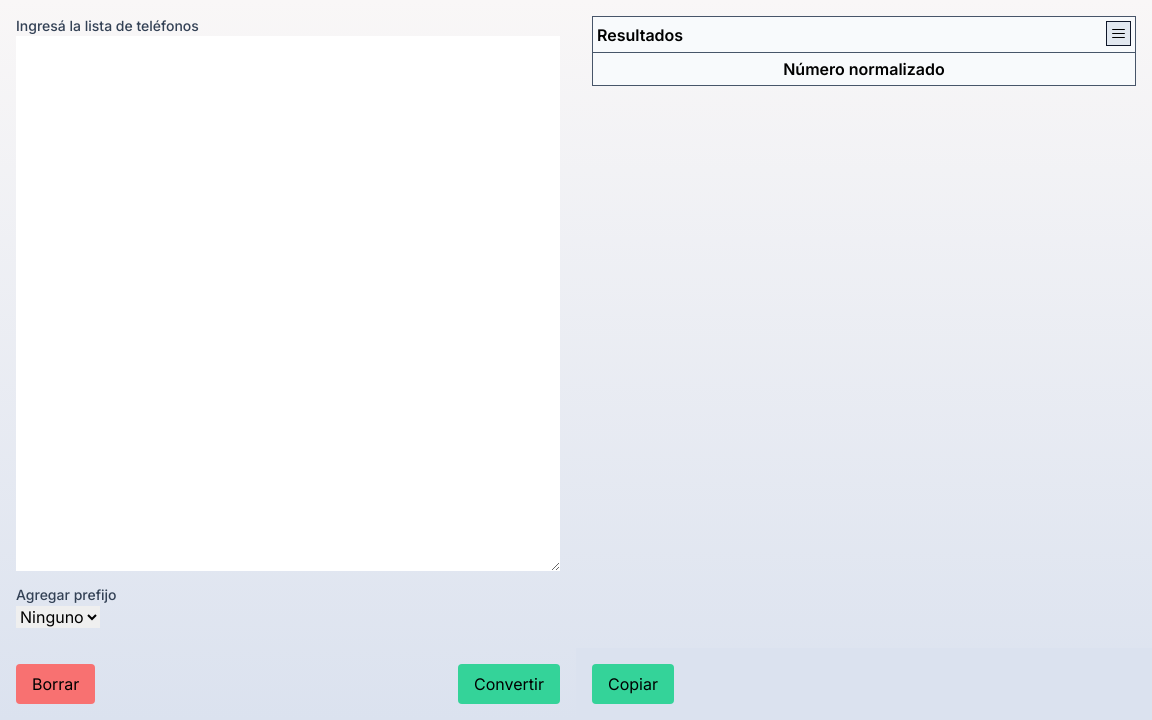
Test case: Normalizes a list of numbers with common mistakes
Type "1566190051   1166190052   166190053   341151234567   541166190054   5491166190055   5401166190056   +5491166190057   mi celu es 1566190058   1166190059   hola   hola mi celu es 1234   hace 2 días que " into the text box labelled "Ingresá la lista de teléfonos" at [288, 304], box [16,36,560,571]
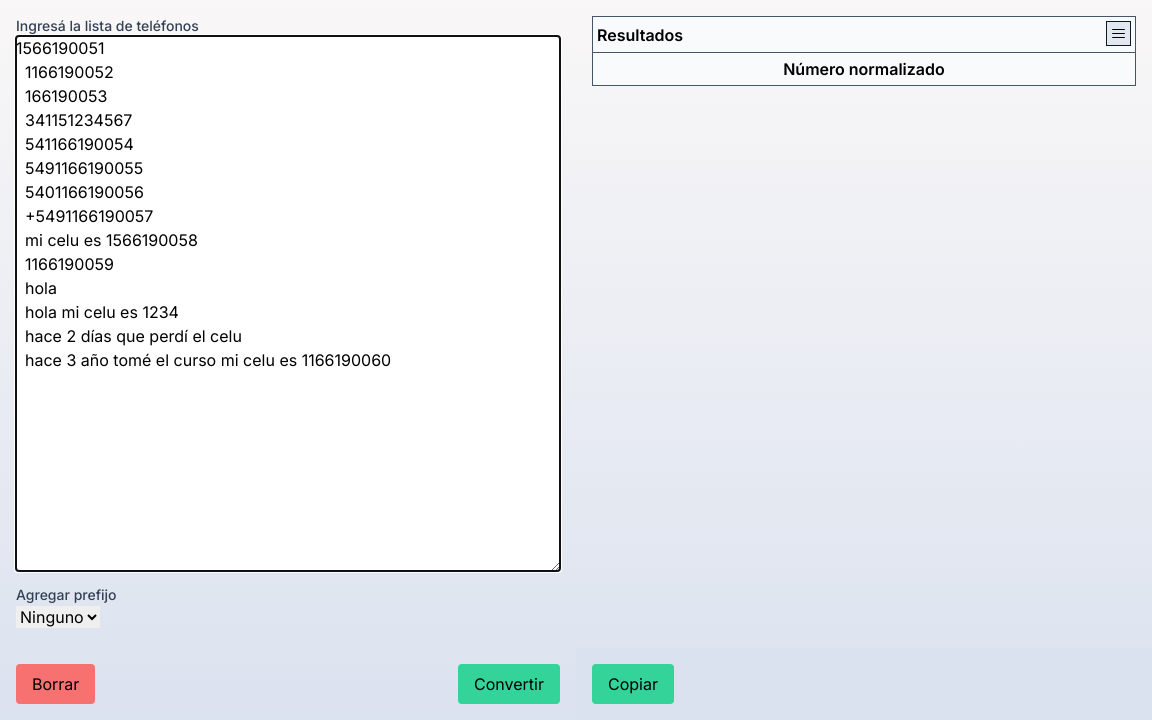
Click the button "Convertir" at [509, 684], box [458,664,560,704]
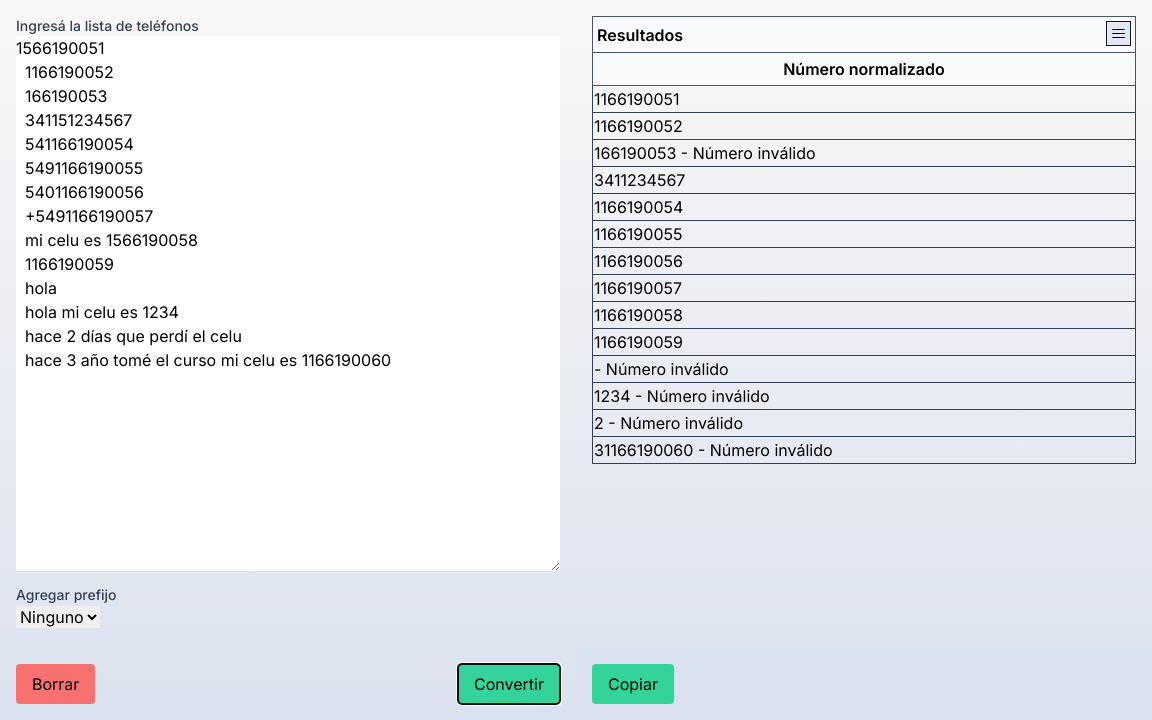
Now the row "1166190051" is shown, box [592,86,1136,112]
Now the row "1166190052" is shown, box [592,112,1136,140]
Now the row "166190053 - Número inválido" is shown, box [592,140,1136,166]
